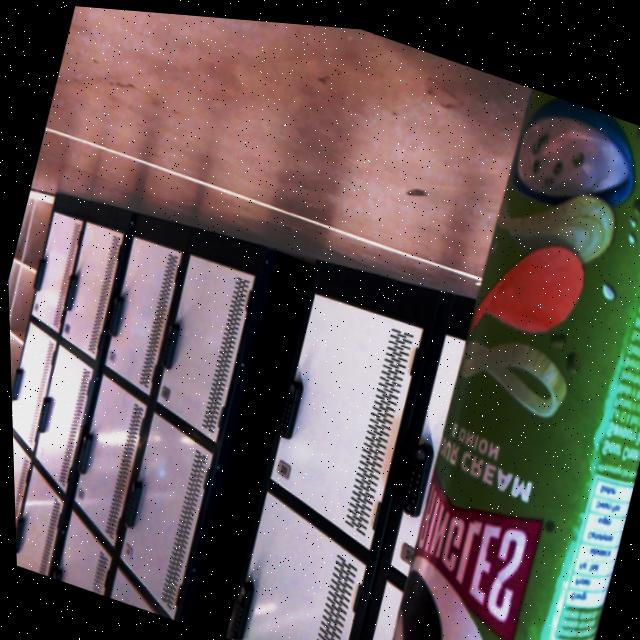greenpringles: (343, 61, 640, 640)
